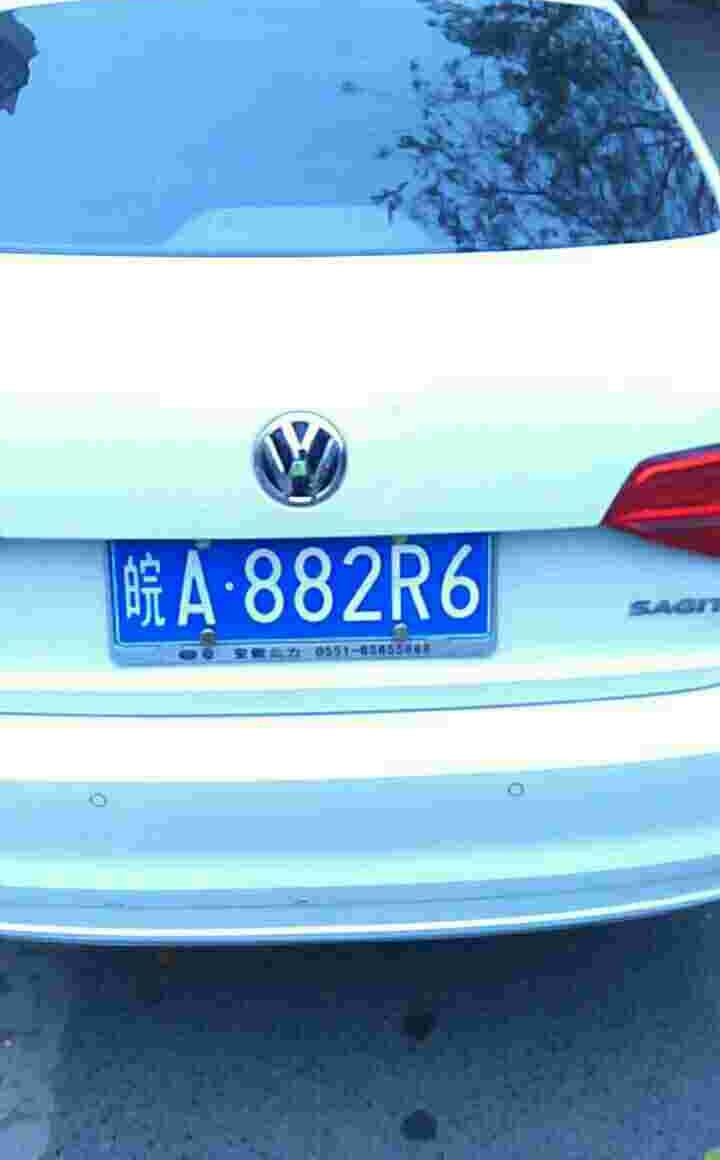license_plate: (107, 534, 506, 647)
